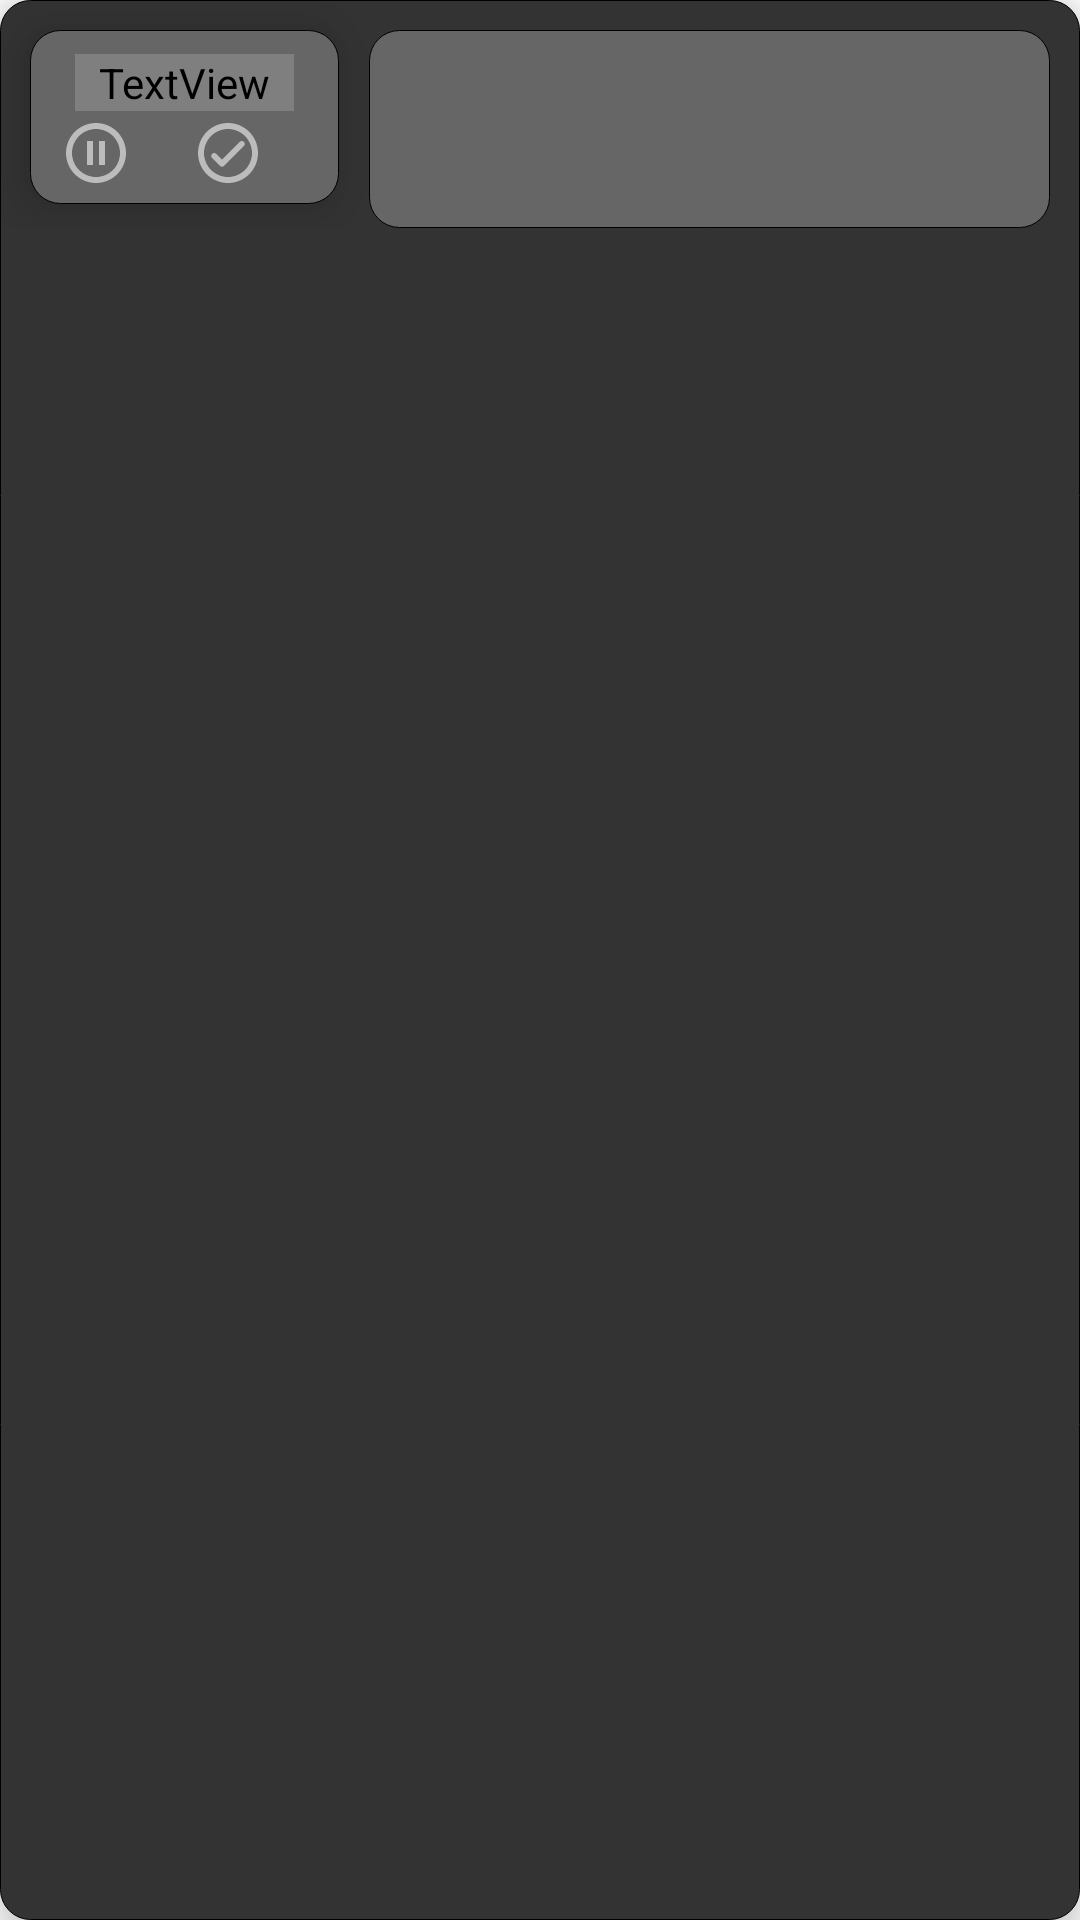

Point at icon controls on the screen. Image size 1080*1920, points as point (x, y).
notification finish: point (228, 153)
